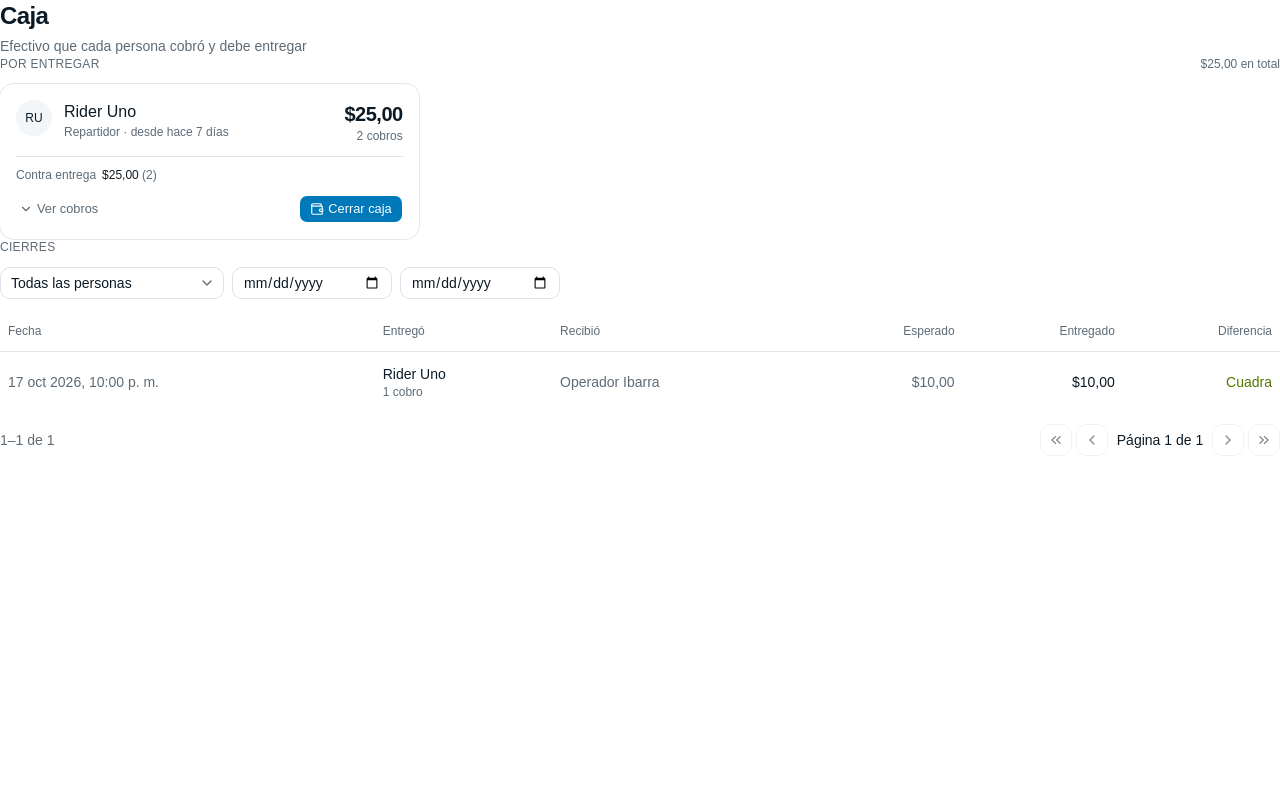
Scenario: CajaPage — pendientes › el historial lista los cierres y abre su detalle con los cobros
Expected: the text "Cuadra" is shown, [1123, 351, 1279, 412]
Click the row "Rider Uno". click: [640, 381]
box: [0, 351, 1279, 412]
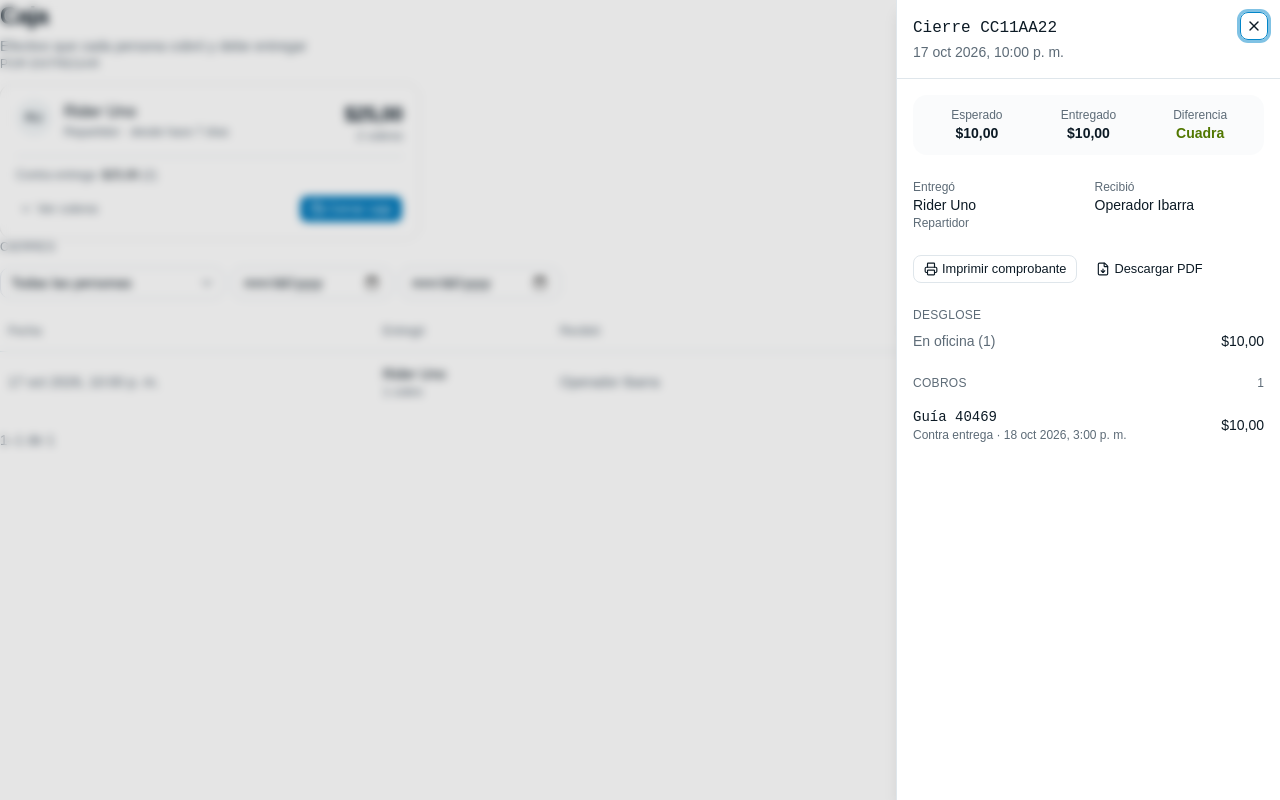
Expected: the heading "Cierre CC11AA22" is shown, [913, 19, 1057, 37]
Expected: the text "Guía 40469" is shown, [913, 409, 997, 425]
Expected: the button "Imprimir comprobante" is shown, [913, 255, 1078, 283]
